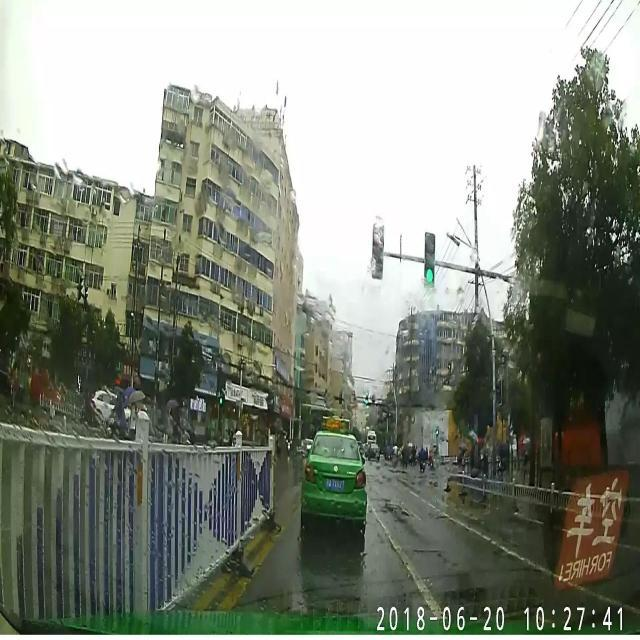car: (301, 417, 368, 535)
